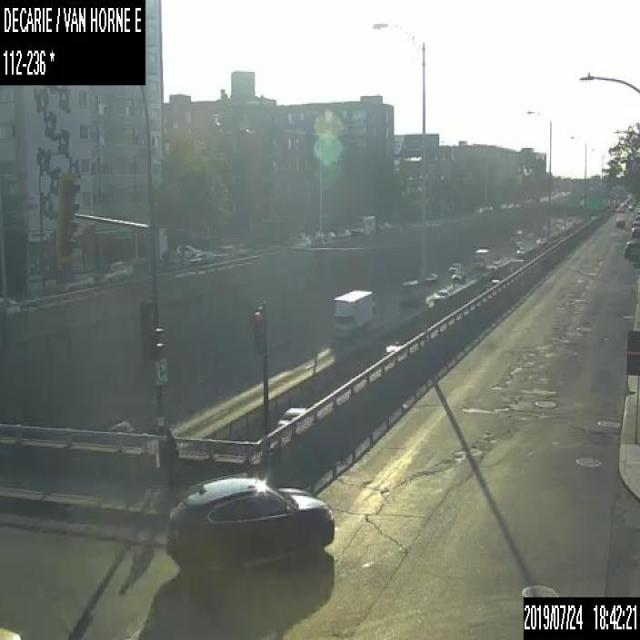vehicle: (164, 472, 333, 575), (332, 288, 373, 340), (96, 260, 132, 284), (397, 275, 420, 308), (58, 270, 93, 291), (276, 405, 304, 427), (351, 214, 375, 233), (105, 419, 133, 432), (473, 246, 489, 268), (174, 244, 199, 256), (188, 251, 211, 264), (0, 297, 19, 312), (0, 625, 20, 639), (624, 240, 639, 257), (386, 340, 404, 353), (451, 269, 466, 280), (448, 261, 461, 272), (425, 271, 436, 282), (631, 225, 639, 237), (616, 216, 624, 227), (630, 219, 639, 226), (616, 205, 624, 212)
